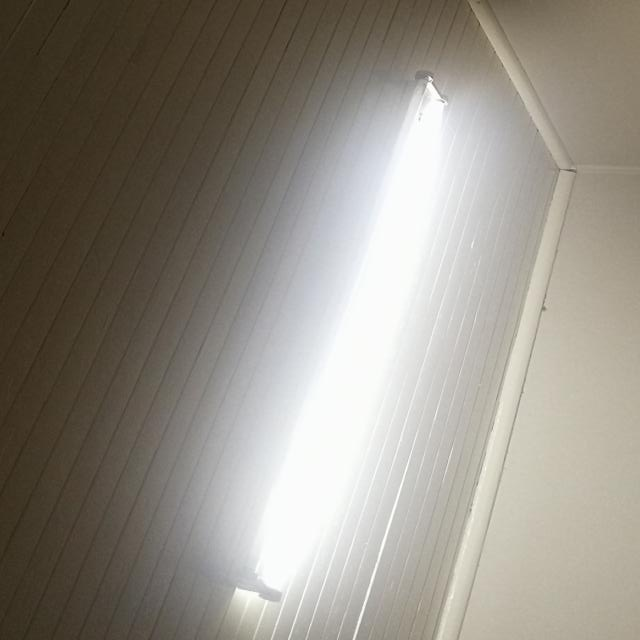fluorescent tube: (207, 46, 489, 616)
